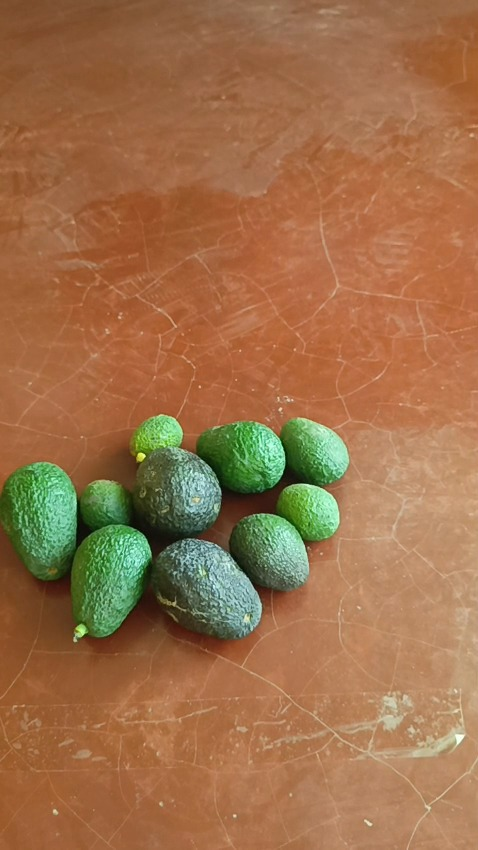Primera: (151, 538, 262, 639), (69, 523, 153, 637), (0, 461, 79, 581), (132, 447, 223, 538), (195, 420, 286, 493)
Segunda: (228, 512, 309, 591), (279, 416, 349, 485)
Tercera: (275, 482, 339, 541), (79, 479, 134, 531), (130, 414, 183, 461)
